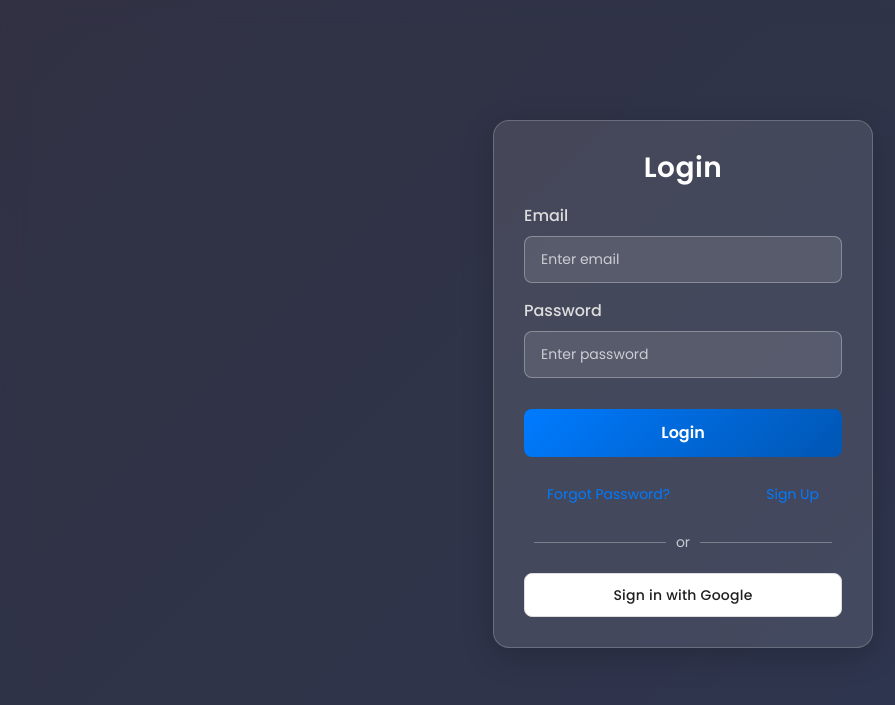
Test: Login Component › displays error when email or password is empty
Step 1. Click the button "Login" → (683, 433), box top-left (524, 409), bottom-right (842, 457)
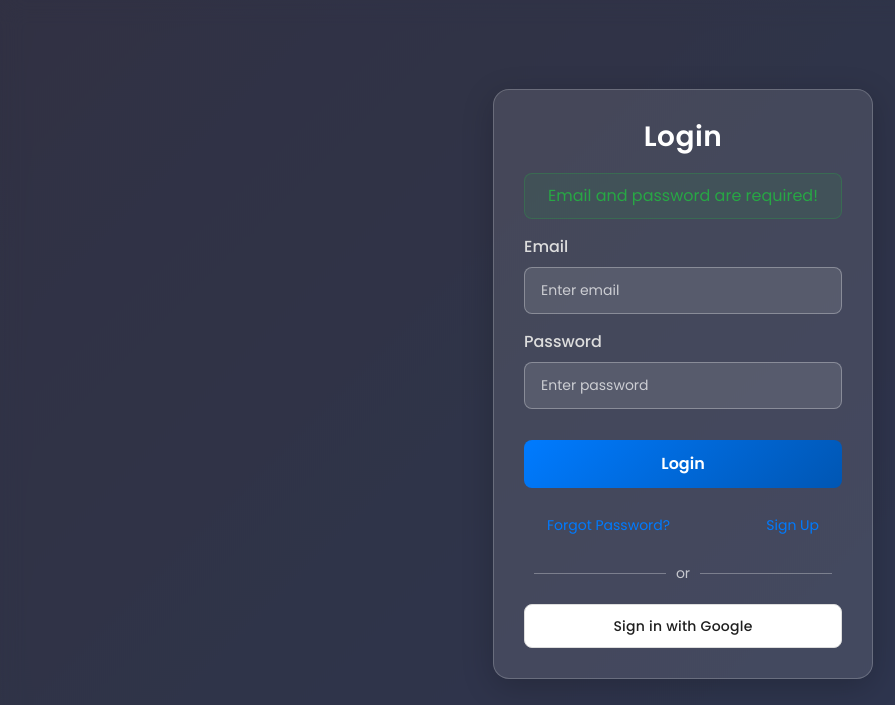
Check: the text "Email and password are required!" is shown, box top-left (524, 173), bottom-right (842, 219)
